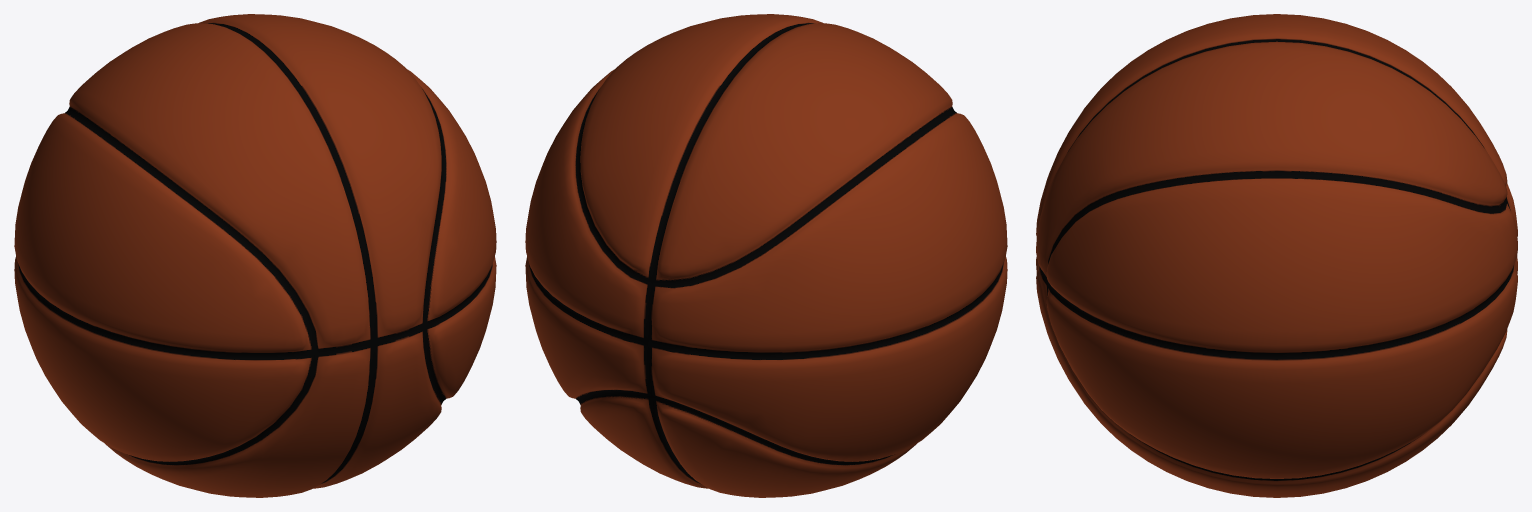
The model's file is Basketball.glb.
The picture shows the model from 3 angles, left to right: view 1: azimuth 30°, elevation 25°; view 2: azimuth 150°, elevation 25°; view 3: azimuth 270°, elevation 25°; orthographic projection.
Visible parts, largest first — view 1: basketball; view 2: basketball; view 3: basketball.
Part boxes in pixels (box(x1,y1,x2,y2)): basketball: box(14, 14, 496, 497); basketball: box(525, 14, 1007, 497); basketball: box(1036, 14, 1517, 497).
Bounding box in the file's own units: 1.09 × 1.09 × 1.09.
1 material, 1 textured.
